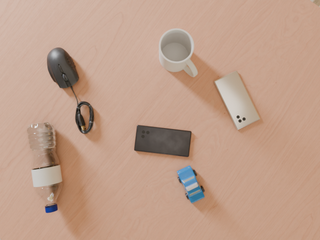bottle: (26, 122, 62, 213)
cup: (159, 29, 198, 77)
mouse: (47, 48, 79, 90)
phone: (214, 71, 260, 130), (134, 125, 191, 157)
toy_car: (177, 166, 205, 203)
